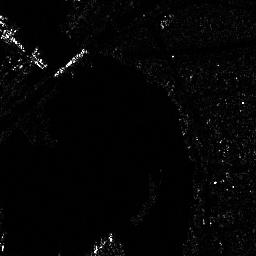ship: (55, 46, 89, 76)
